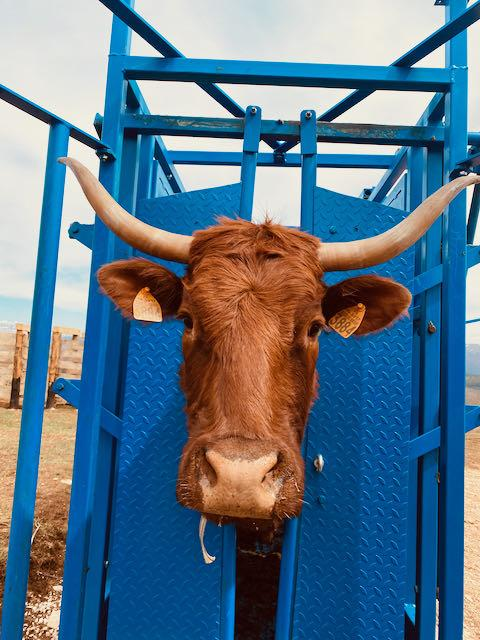muzzles: (176, 440, 308, 531)
